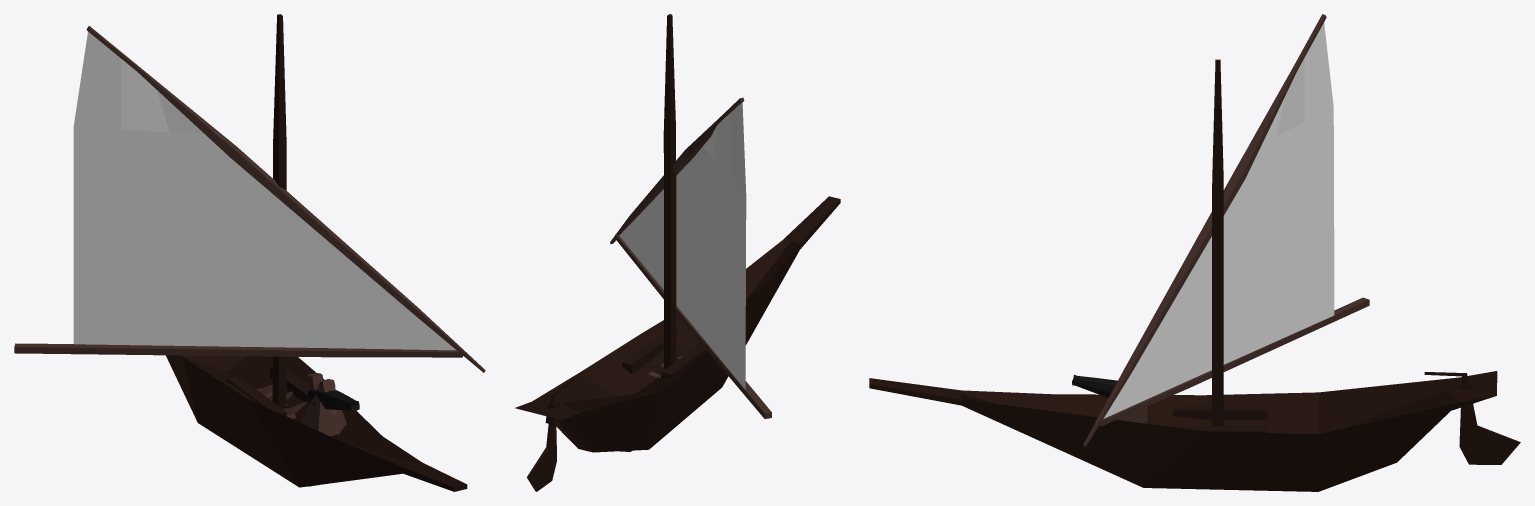
Rendered from boat.fbx.
3 renders of one model, left to right at view 1: azimuth 30°, elevation 25°; view 2: azimuth 150°, elevation 25°; view 3: azimuth 270°, elevation 25°, orthographic. The views are drawn at different scales.
Parts seen in each view (by area): view 1: Sail, Hull, Mast_beam_u, Mast_beam_l, Mast, Skeleton, Cannon_base, Cannon; view 2: Sail, Hull, Mast, Skeleton, Mast_beam_l, Mast_beam_u, Rudder; view 3: Hull, Sail, Mast_beam_u, Mast, Rudder, Mast_beam_l, Skeleton.
Boxes of the visible parts, <box> form: Sail: <box>73,31,456,350</box>; Hull: <box>166,355,467,491</box>; Mast_beam_u: <box>86,26,485,372</box>; Mast_beam_l: <box>14,343,462,357</box>; Mast: <box>272,14,286,408</box>; Skeleton: <box>226,367,309,418</box>; Cannon_base: <box>301,395,346,436</box>; Cannon: <box>307,389,359,410</box>; Sail: <box>619,102,746,389</box>; Hull: <box>515,196,840,452</box>; Mast: <box>663,14,676,368</box>; Skeleton: <box>622,332,705,379</box>; Mast_beam_l: <box>615,234,771,418</box>; Mast_beam_u: <box>610,97,744,243</box>; Rudder: <box>527,378,572,491</box>; Hull: <box>869,371,1497,491</box>; Sail: <box>1103,22,1334,418</box>; Mast_beam_u: <box>1083,14,1326,446</box>; Mast: <box>1212,59,1223,425</box>; Rudder: <box>1424,372,1520,464</box>; Mast_beam_l: <box>1095,297,1369,426</box>; Skeleton: <box>1172,405,1267,432</box>.
Size of the model in its own units: 1716 by 2255 by 3110.
